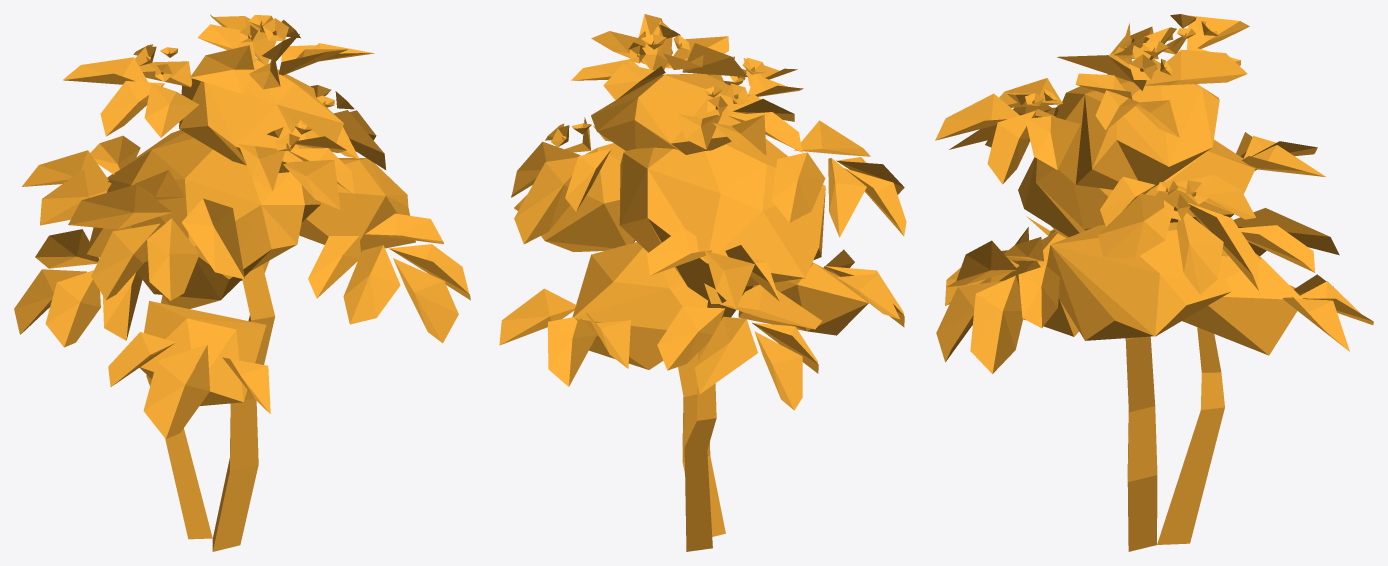
File: SM_Potato_Plant_Flowering_B.fbx
The picture shows the model from 3 angles, left to right: view 1: azimuth 30°, elevation 25°; view 2: azimuth 150°, elevation 25°; view 3: azimuth 270°, elevation 25°; orthographic projection. The views are drawn at different scales.
Parts seen in each view (by area): view 1: potato-plant-flowering-b; view 2: potato-plant-flowering-b; view 3: potato-plant-flowering-b.
Part boxes in pixels (x1,y1,x2,y2): potato-plant-flowering-b: (14,14,470,551); potato-plant-flowering-b: (499,14,906,551); potato-plant-flowering-b: (935,14,1373,551).
Bounding box in the file's own units: 0.6009 × 0.8257 × 0.619.
